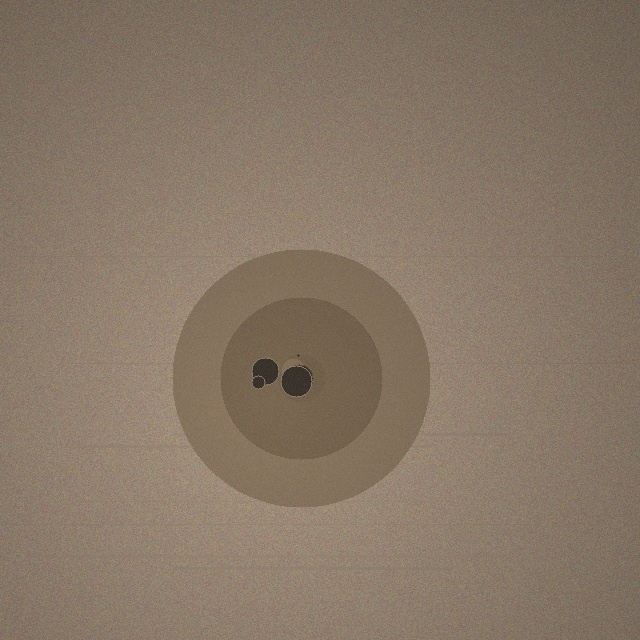shrinkage: (172, 249, 430, 507)
